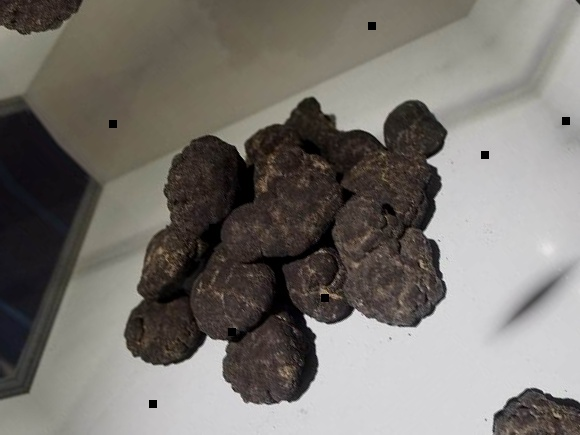halobolite: (156, 136, 255, 241), (252, 141, 343, 252), (224, 302, 317, 410), (351, 239, 452, 325), (193, 249, 271, 339), (360, 156, 441, 238), (126, 225, 209, 305), (124, 284, 203, 367), (289, 241, 355, 330), (380, 100, 451, 160), (223, 199, 279, 261)
